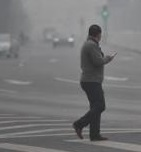person: (71, 23, 117, 143)
